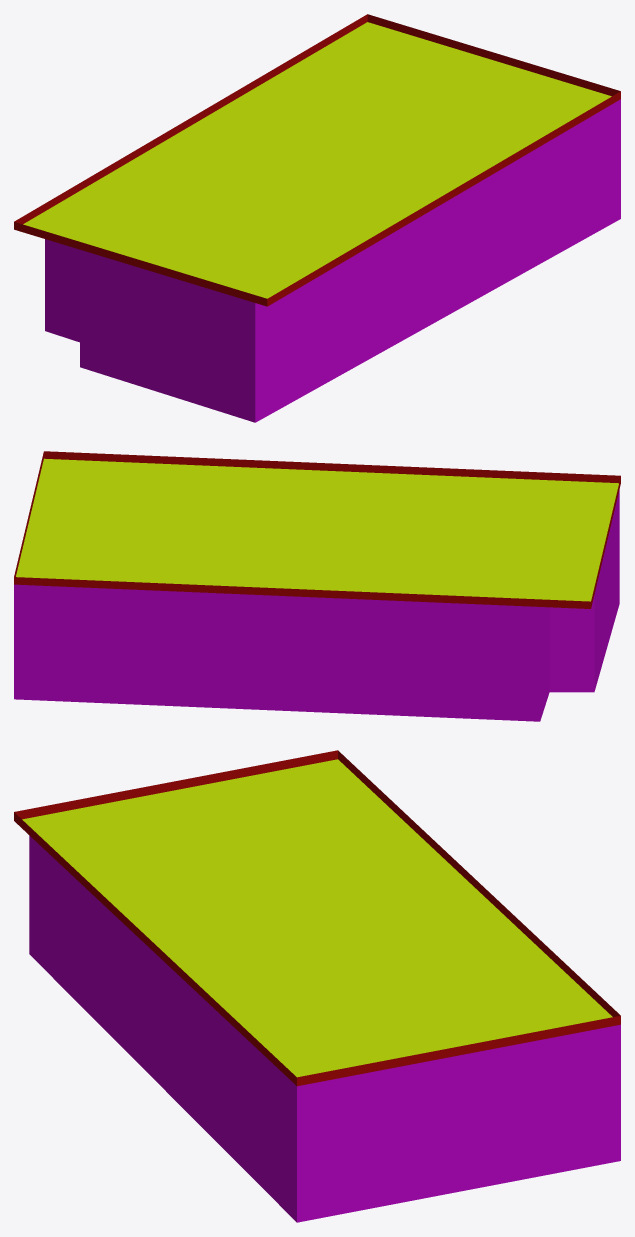
The model's file is bgj_142.glb.
3 views of the same model, one above another, from view 1: azimuth 30°, elevation 25°; view 2: azimuth 150°, elevation 25°; view 3: azimuth 270°, elevation 25° (orthographic). The views are drawn at different scales.
Parts seen in each view (by area): view 1: bgj_142; view 2: bgj_142; view 3: bgj_142.
Boxes of the visible parts, x1,y1,x2,y2 form: bgj_142: [14, 14, 620, 422]; bgj_142: [14, 451, 620, 721]; bgj_142: [14, 750, 620, 1222].
Size of the model in its own units: 27.38 by 5.67 by 21.48.
